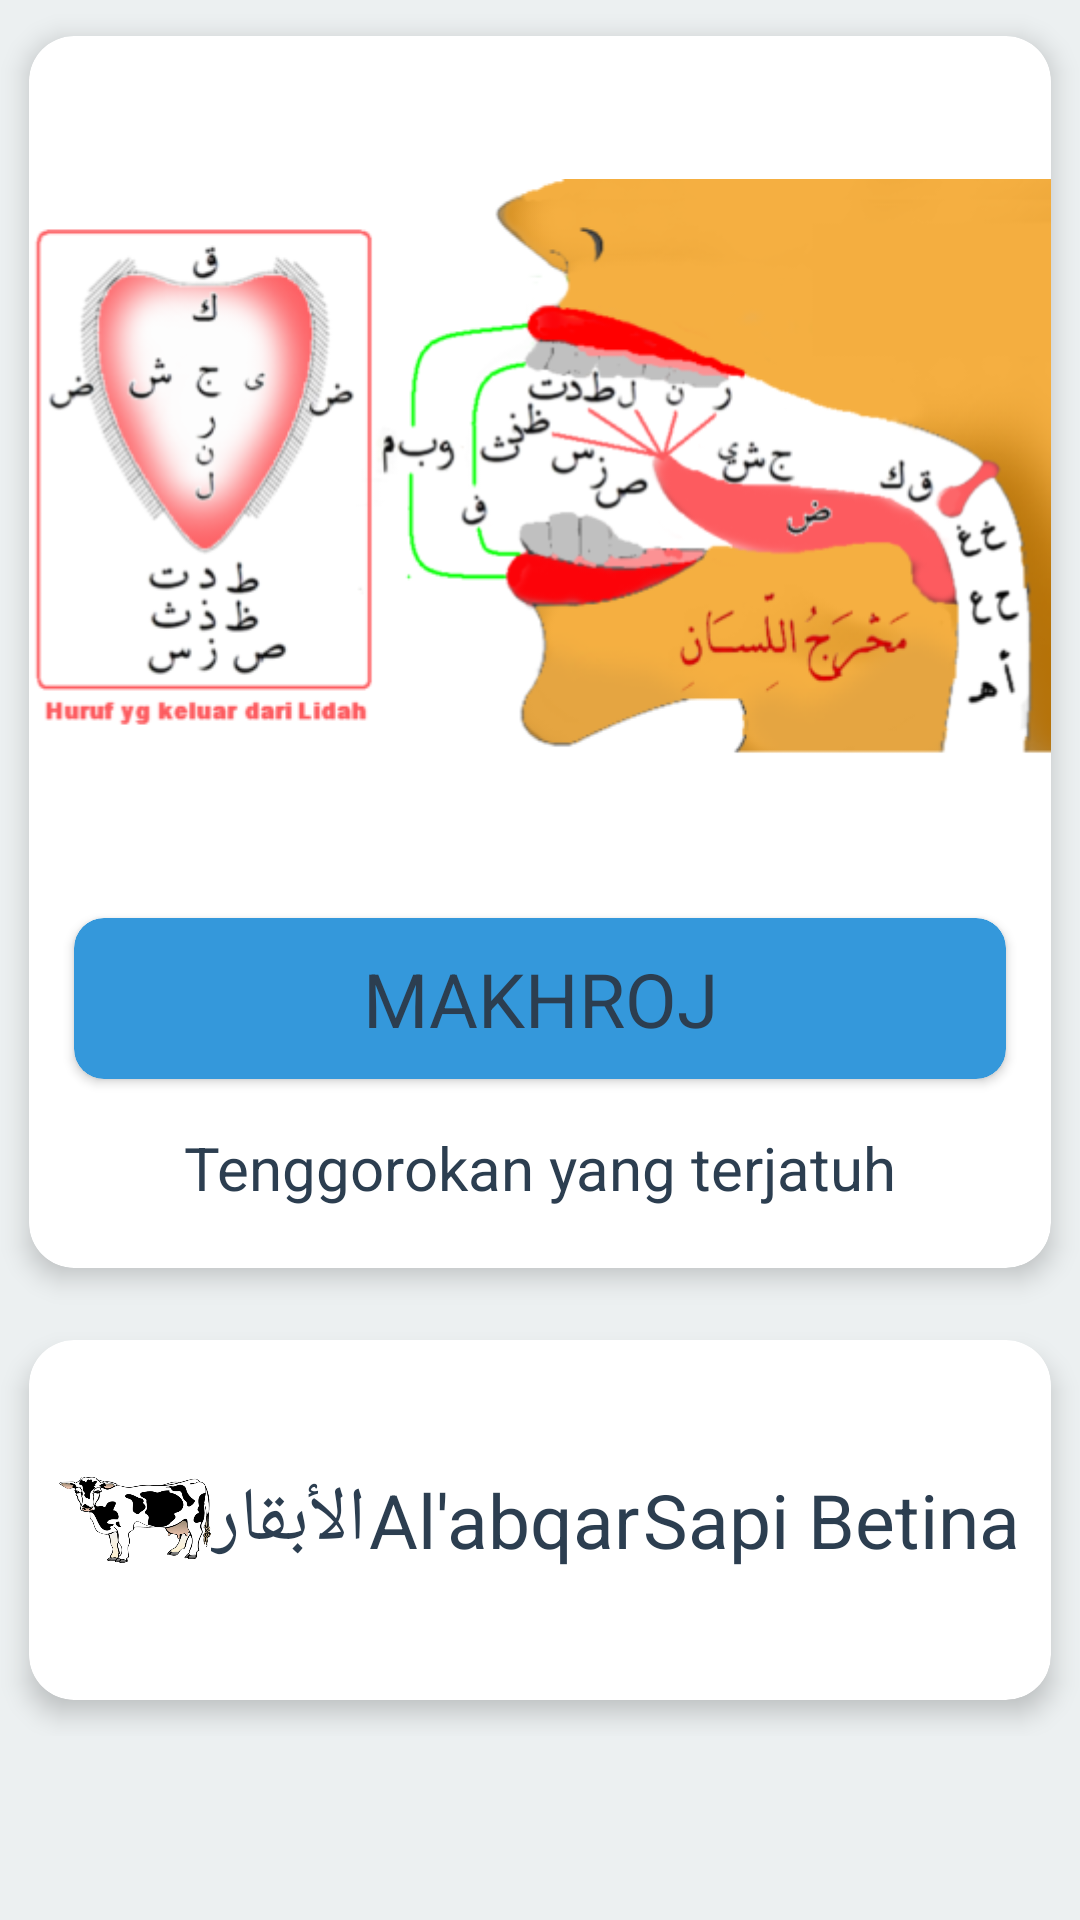

Icon click points for this 1080×1920 phone screenshot, format [x,y]:
cow: [135,1520]
